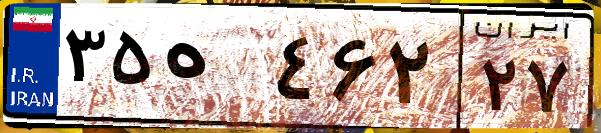2: (385, 28, 445, 110), (475, 38, 525, 113)
3: (57, 26, 110, 100)
4: (270, 28, 330, 110)
5: (110, 28, 158, 98)
6: (330, 28, 385, 110)
7: (525, 38, 570, 115)
ه: (158, 20, 270, 120)
